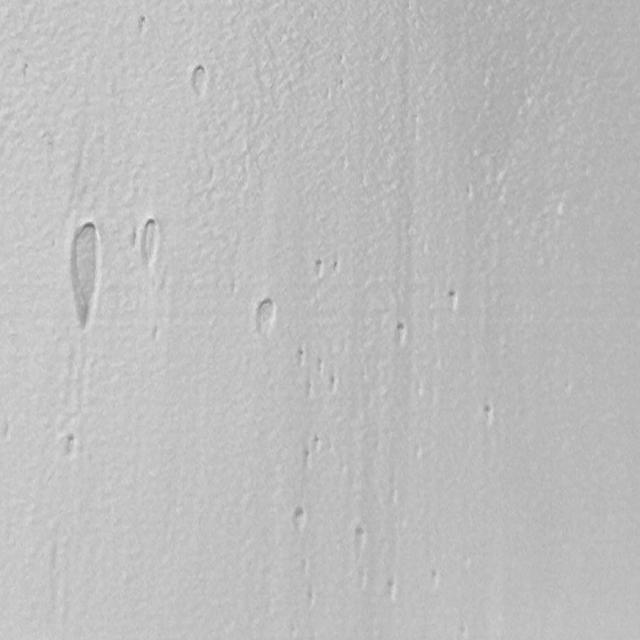pin holes: (70, 219, 99, 333), (134, 218, 166, 270), (254, 298, 278, 332), (187, 64, 210, 99), (60, 431, 82, 461), (444, 286, 464, 313), (479, 401, 498, 428), (290, 505, 308, 533), (352, 526, 370, 554), (391, 319, 409, 346), (303, 438, 321, 464), (384, 577, 401, 602), (136, 13, 152, 36), (2, 419, 16, 444), (312, 256, 325, 278), (328, 372, 341, 394), (429, 569, 443, 589), (302, 446, 314, 469), (296, 347, 309, 368), (152, 324, 163, 348), (304, 378, 316, 399), (331, 258, 344, 276), (465, 180, 474, 206), (312, 434, 324, 452), (307, 586, 316, 606), (336, 53, 348, 67), (314, 359, 325, 374), (22, 61, 29, 84), (336, 77, 347, 91)
